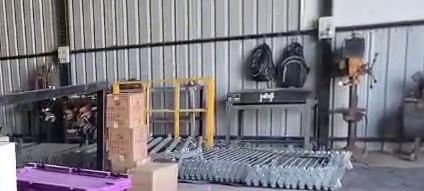box: (17, 164, 130, 190)
